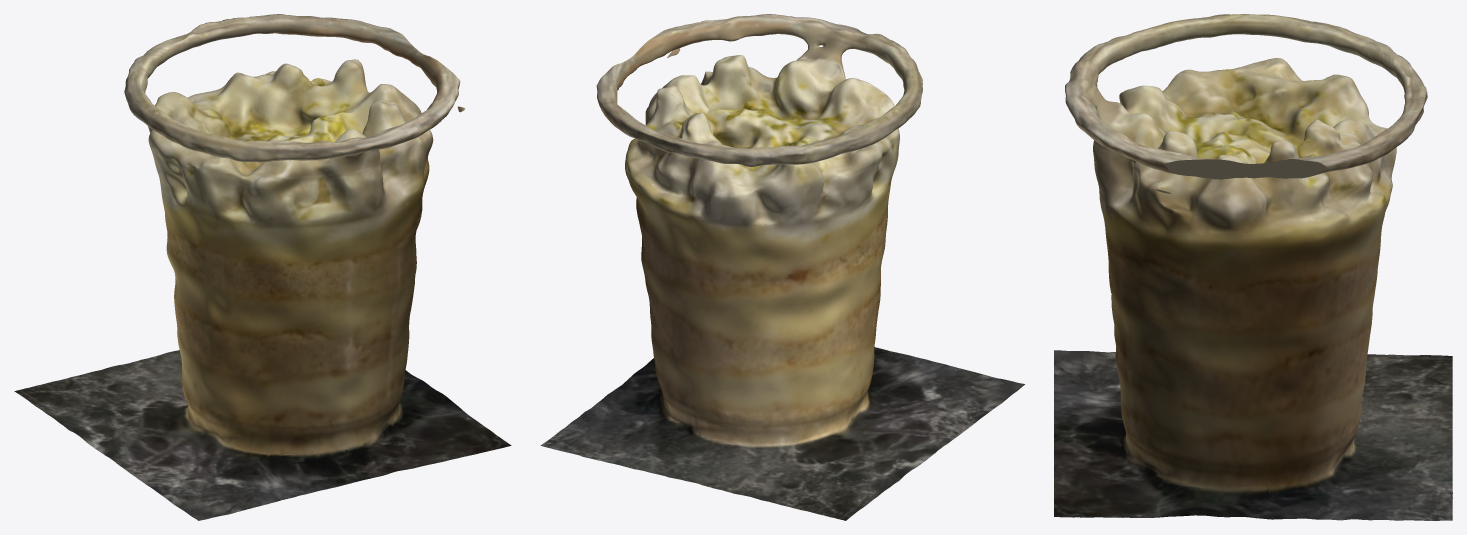
File: marquesa-limon.glb
The picture shows the model from 3 angles, left to right: view 1: azimuth 30°, elevation 25°; view 2: azimuth 150°, elevation 25°; view 3: azimuth 270°, elevation 25°; orthographic projection. The views are drawn at different scales.
Parts seen in each view (by area): view 1: 3DModel; view 2: 3DModel; view 3: 3DModel.
Boxes of the visible parts, left/top/right/bottom form: 3DModel: left=14, top=14, right=511, bottom=520; 3DModel: left=540, top=14, right=1024, bottom=520; 3DModel: left=1054, top=14, right=1452, bottom=520.
Size of the model in its own units: 0.1178 by 0.1222 by 0.12.
Materials: 1 (1 with a texture image).
